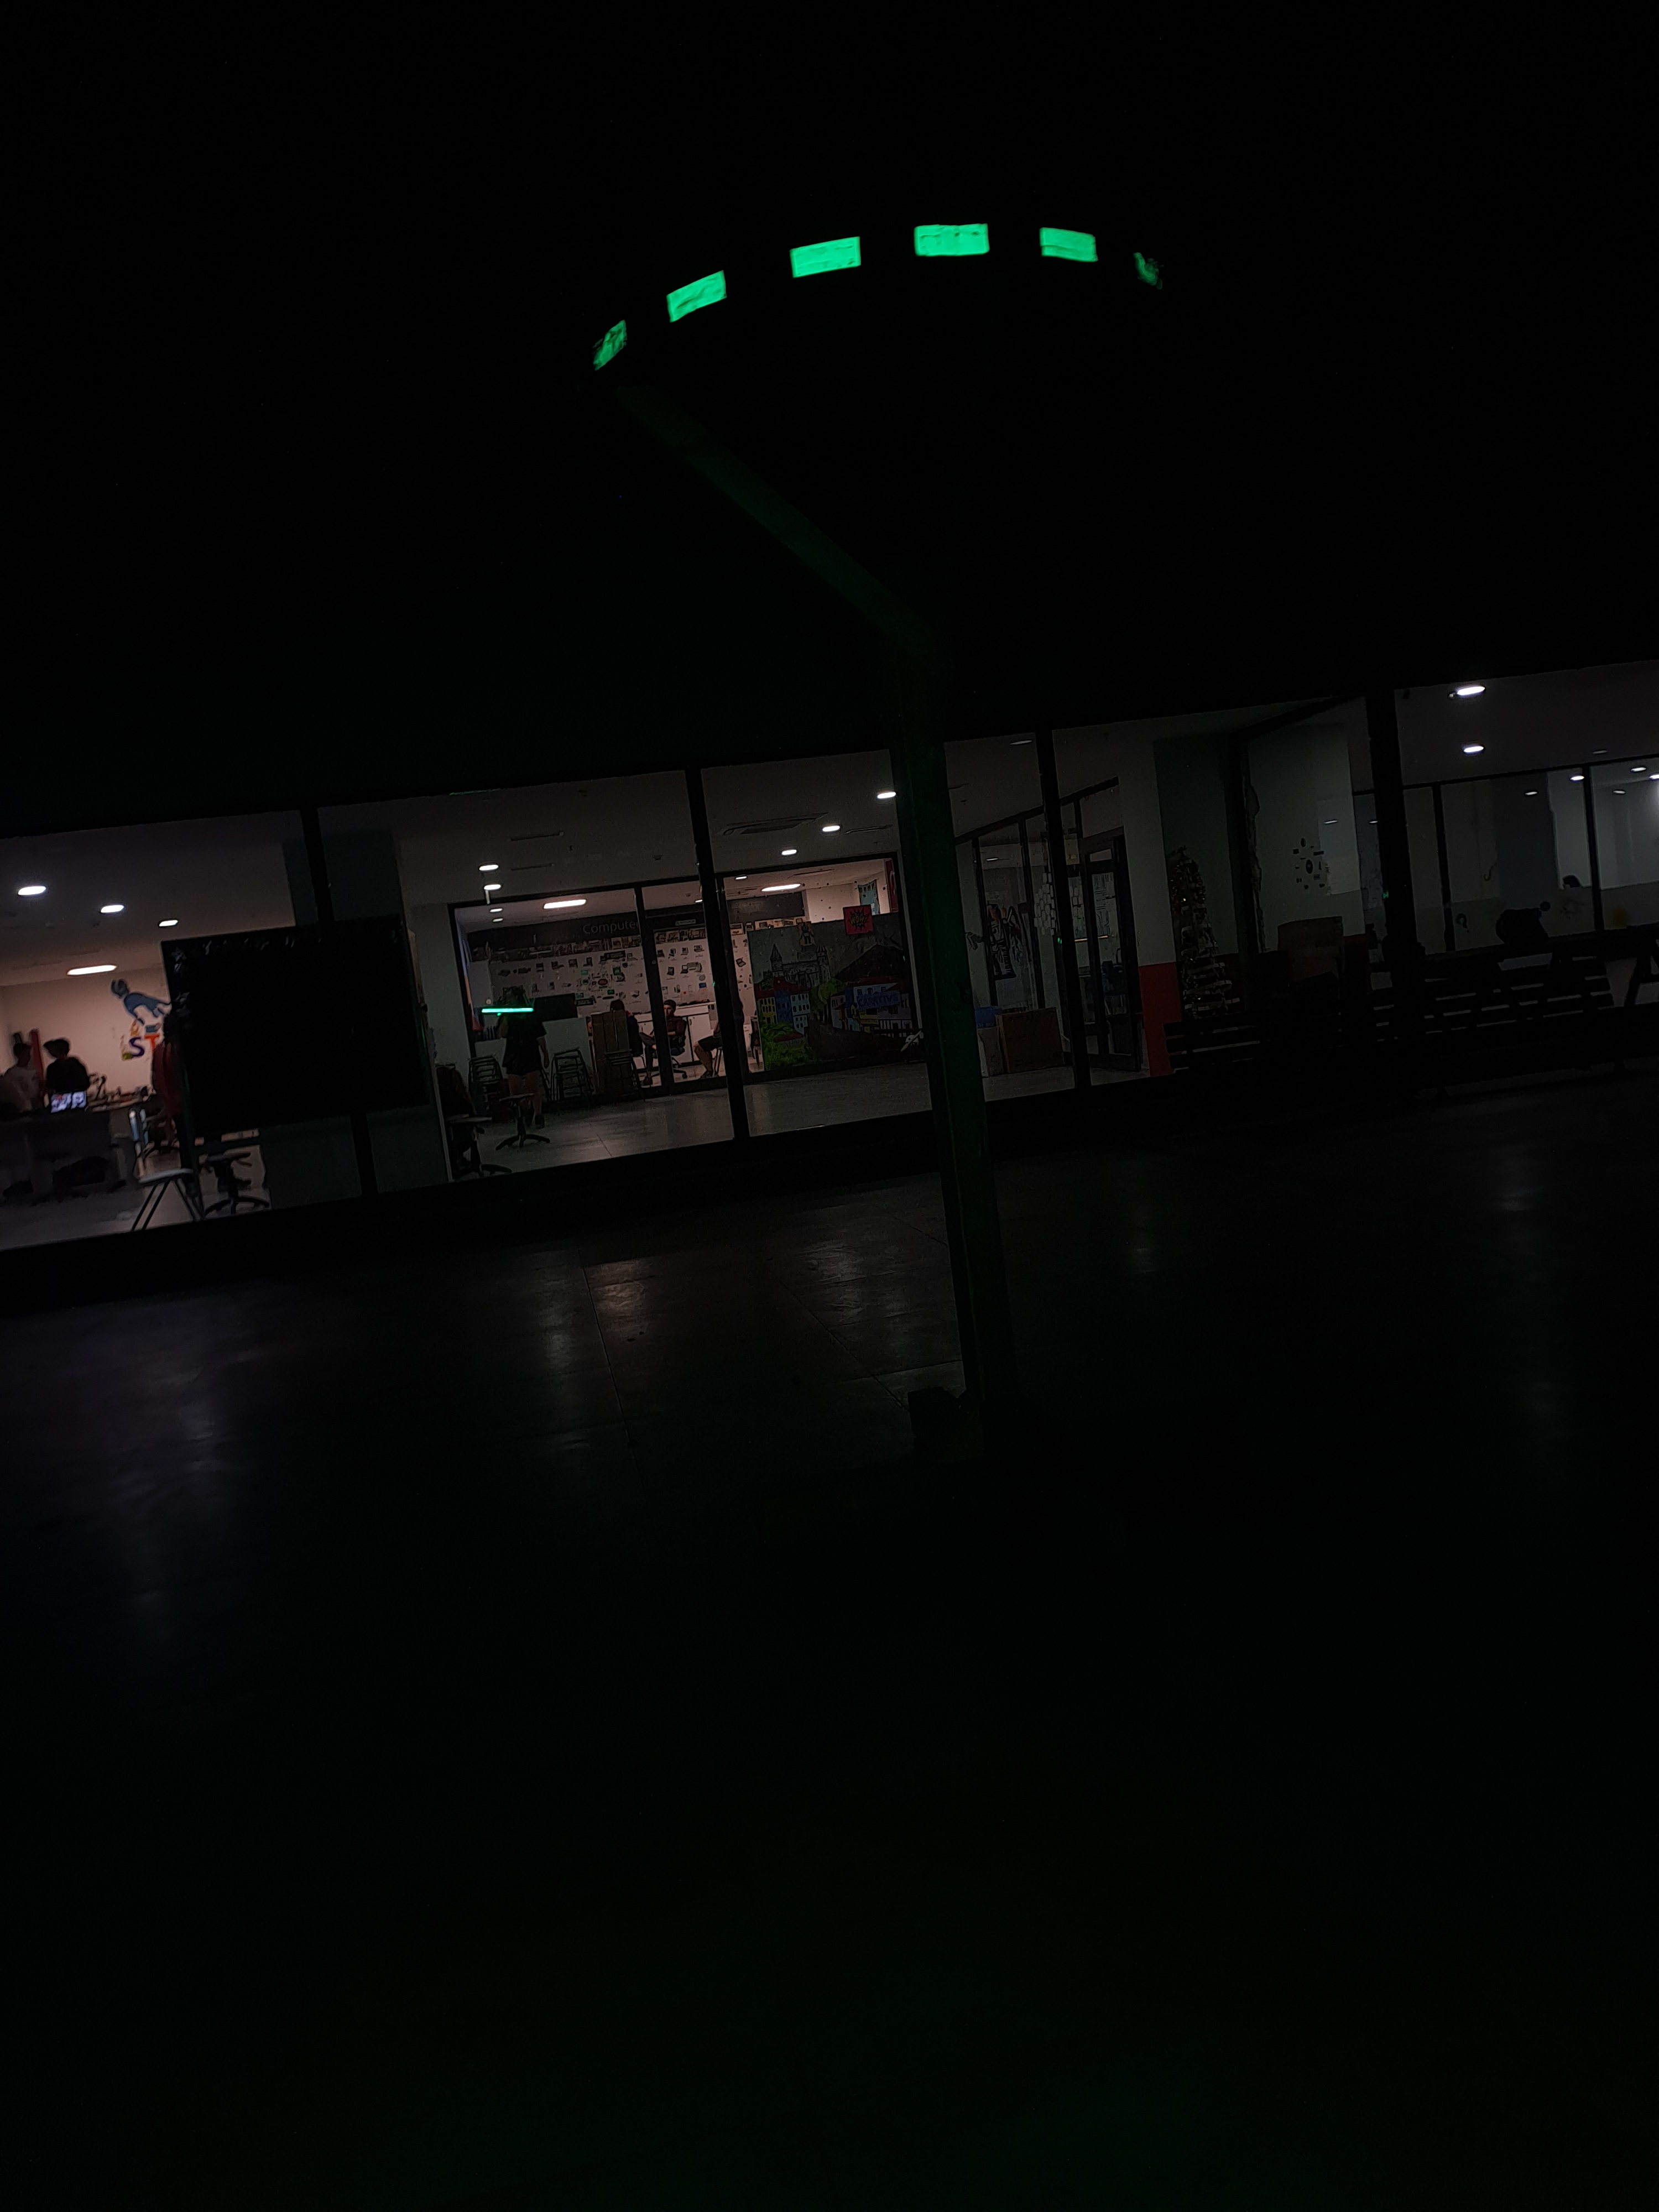hoop: (589, 225, 1162, 361)
